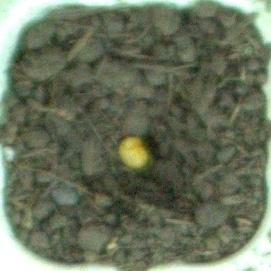pepper seed: (40, 48, 195, 220)
